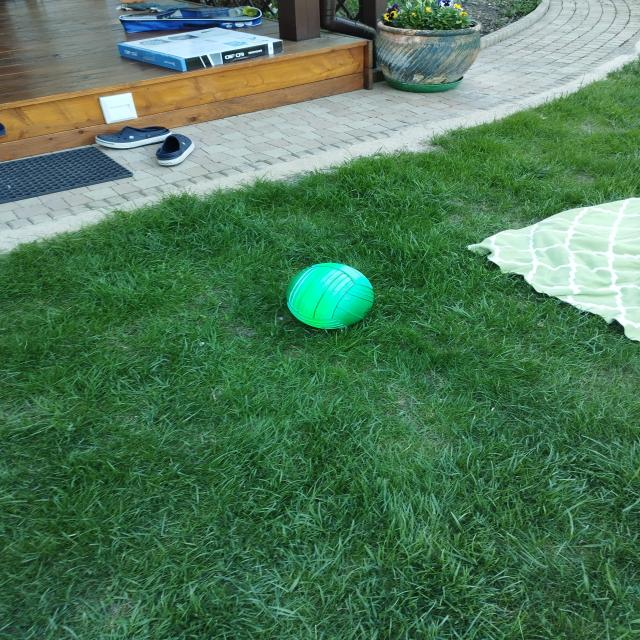zielona: (286, 263, 374, 328)
